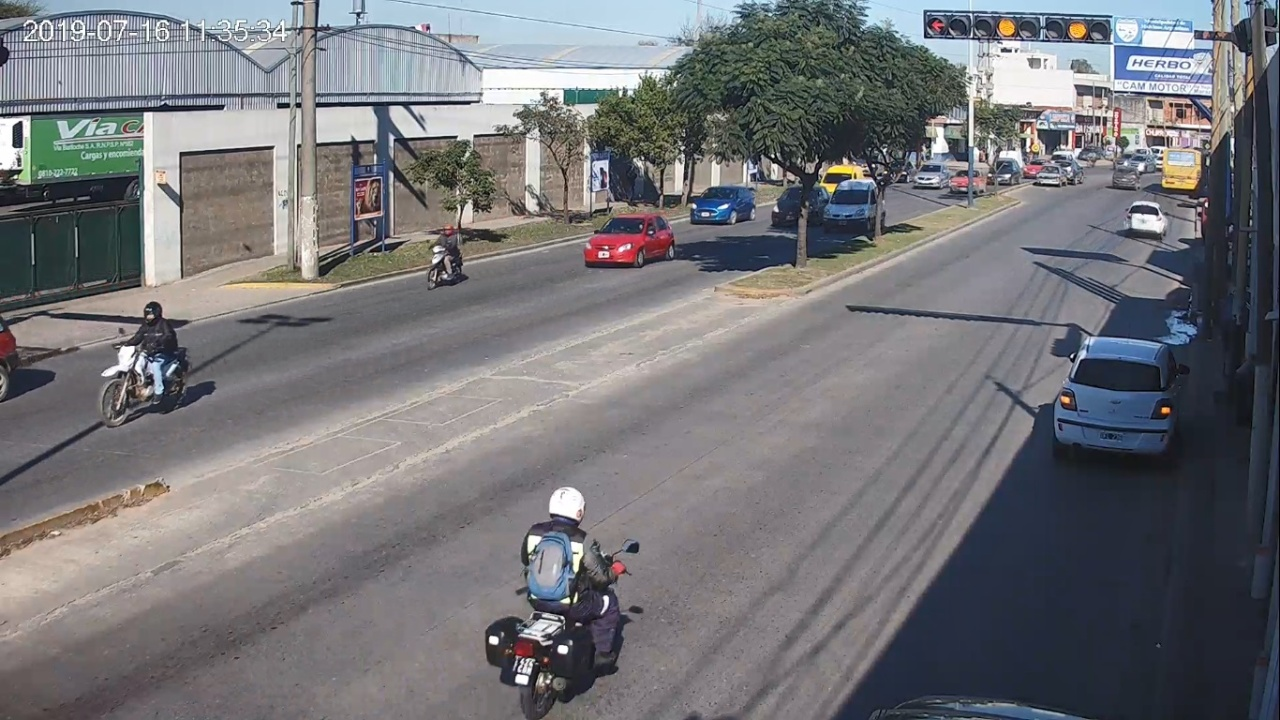car: (1053, 335, 1190, 465)
front car: (584, 214, 675, 268)
front motorcycle: (98, 323, 189, 427)
motorcycle: (485, 537, 640, 713)
traffic light: (973, 12, 1112, 45)
